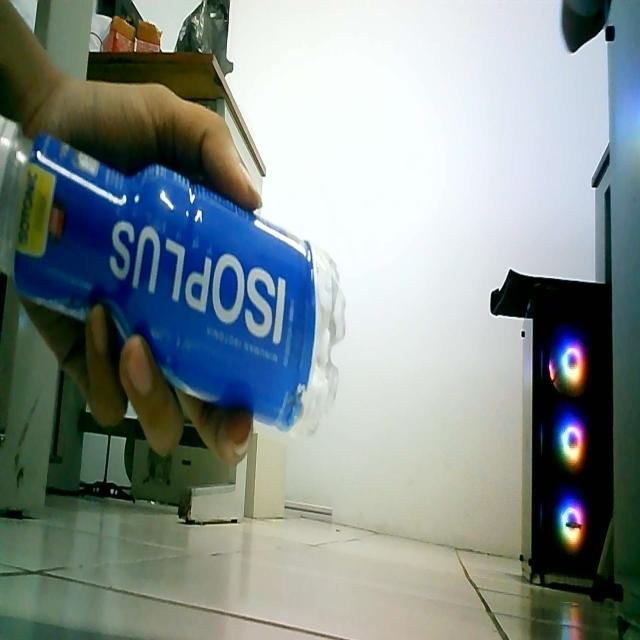botol: (1, 83, 359, 508)
